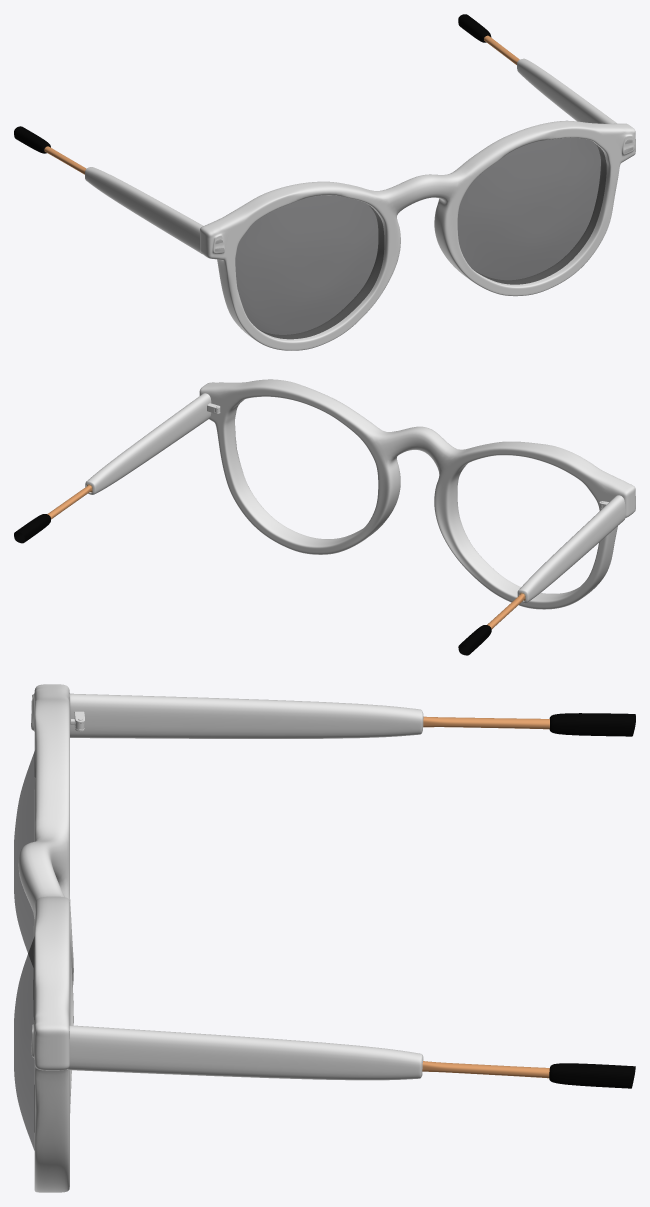
3 views of the same model, one above another, from view 1: azimuth 30°, elevation 25°; view 2: azimuth 150°, elevation 25°; view 3: azimuth 270°, elevation 25° (orthographic). The views are drawn at different scales.
Visible parts, largest first — view 1: lens, frame; view 2: frame; view 3: frame, lens.
Part boxes in pixels (bbox=[...]): lens: bbox=[235, 137, 606, 339]; frame: bbox=[14, 14, 635, 350]; frame: bbox=[14, 379, 635, 655]; frame: bbox=[18, 684, 635, 1192]; lens: bbox=[14, 750, 35, 1150].
Size of the model in its own units: 2.27 by 0.7613 by 1.62.
6 materials, 1 textured.
